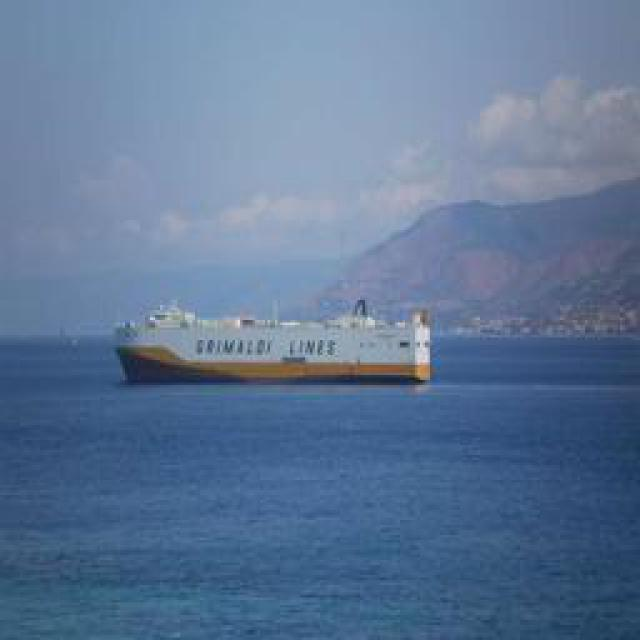Ship: (117, 298, 435, 386)
